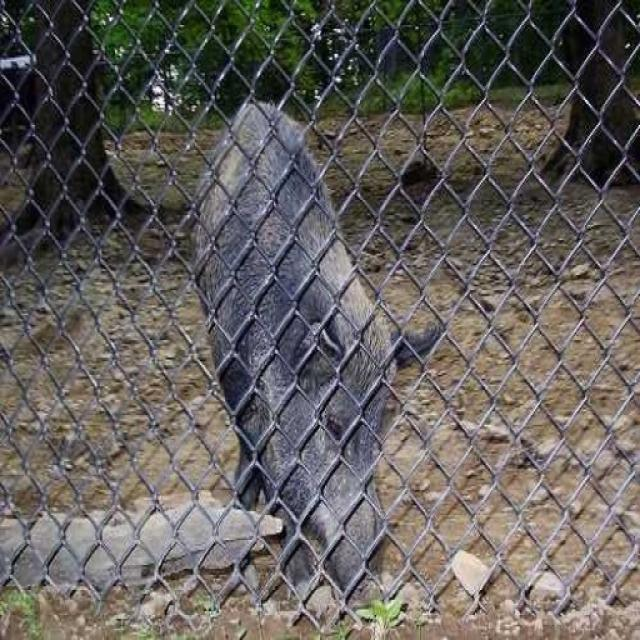pig: (142, 52, 448, 557)
